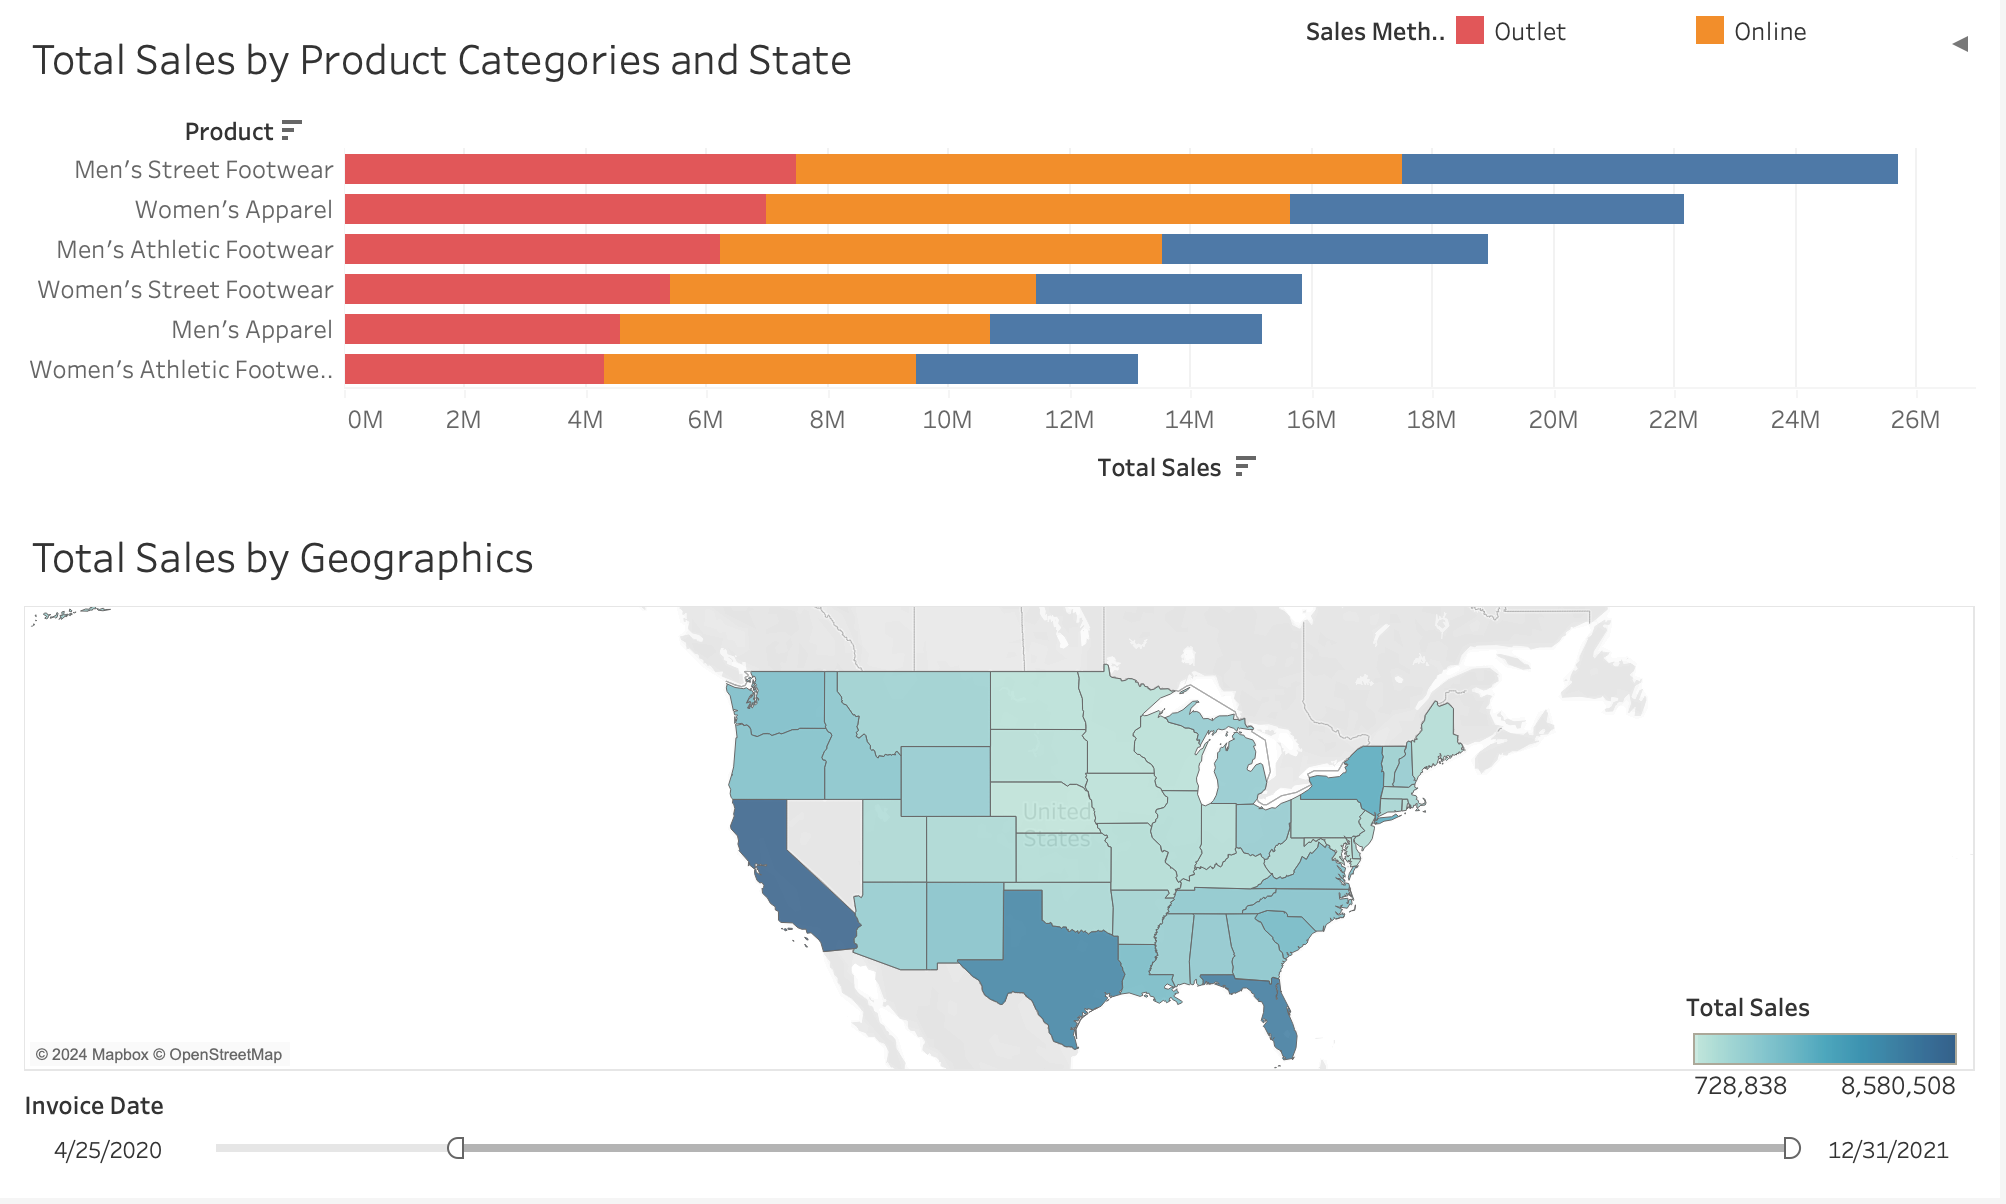

The dashboard page shown, as its layout file describes it:
{"tool":"tableau","page":{"name":"Dashboard 1","canvas":[1000,800],"ordinal":0},"visuals":[{"type":"worksheet","title":"Sheet 2","mark":"Automatic","rows":["product"],"cols":["total_sales"],"box":[8,8,984,249]},{"type":"worksheet","title":"Sheet 1","mark":"Automatic","box":[8,257,984,484]},{"type":"legend","title":"Sheet 1","param":"[federated.1qt22ld1i54zkt0zvql941dpot1y].[sum:total_sales:qk]","box":[843,661,140,76]},{"type":"filter","title":"Sheet 1","param":"[federated.1qt22ld1i54zkt0zvql941dpot1y].[none:invoice_date:qk]","box":[8,741,984,51]}]}

Visuals, with their boxes on the page's 1000x800 design canvas (x1, y1, x2, y2). These are canvas units, not pixel positions in the 2006x1204 screenshot, which may show the page scaled, cropped or inside an application window:
"Sheet 2" worksheet: BBox(8, 8, 992, 257)
"Sheet 1" worksheet: BBox(8, 257, 992, 741)
"Sheet 1" legend: BBox(843, 661, 983, 737)
"Sheet 1" filter: BBox(8, 741, 992, 792)
